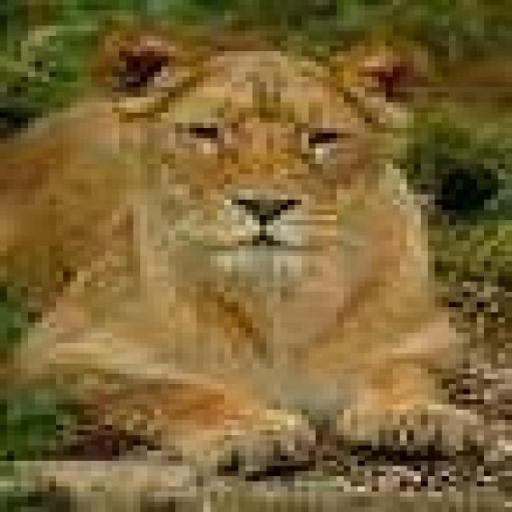Lion: (0, 15, 484, 482)
